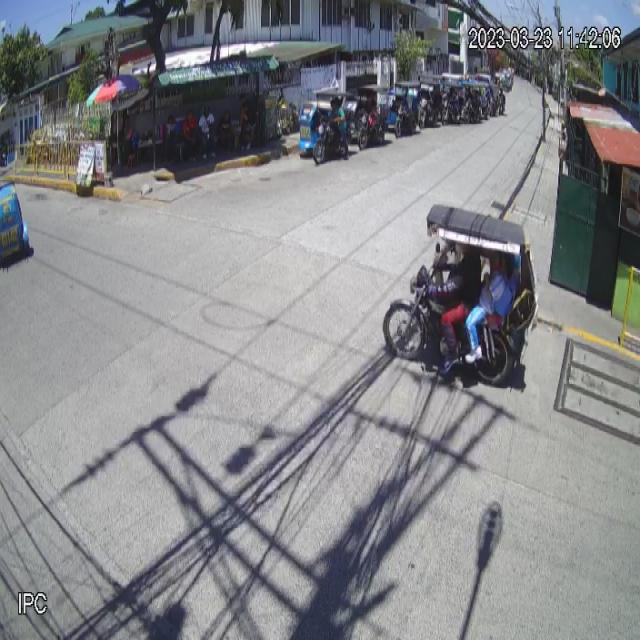Tricycle: (381, 203, 539, 387)
